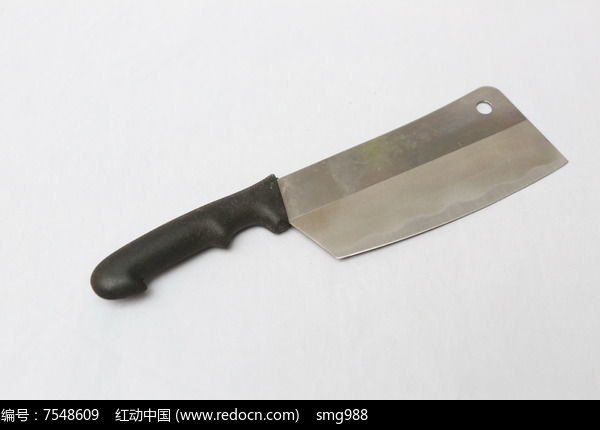knief: (82, 77, 580, 309)
